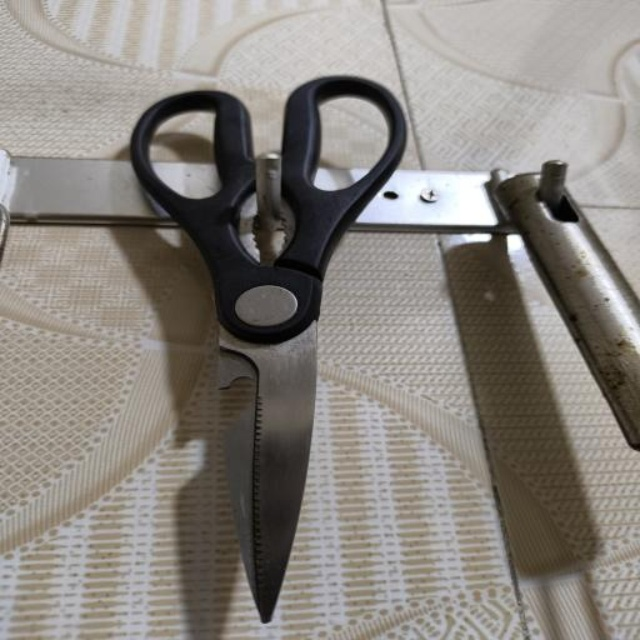scissor: (128, 74, 408, 625)
